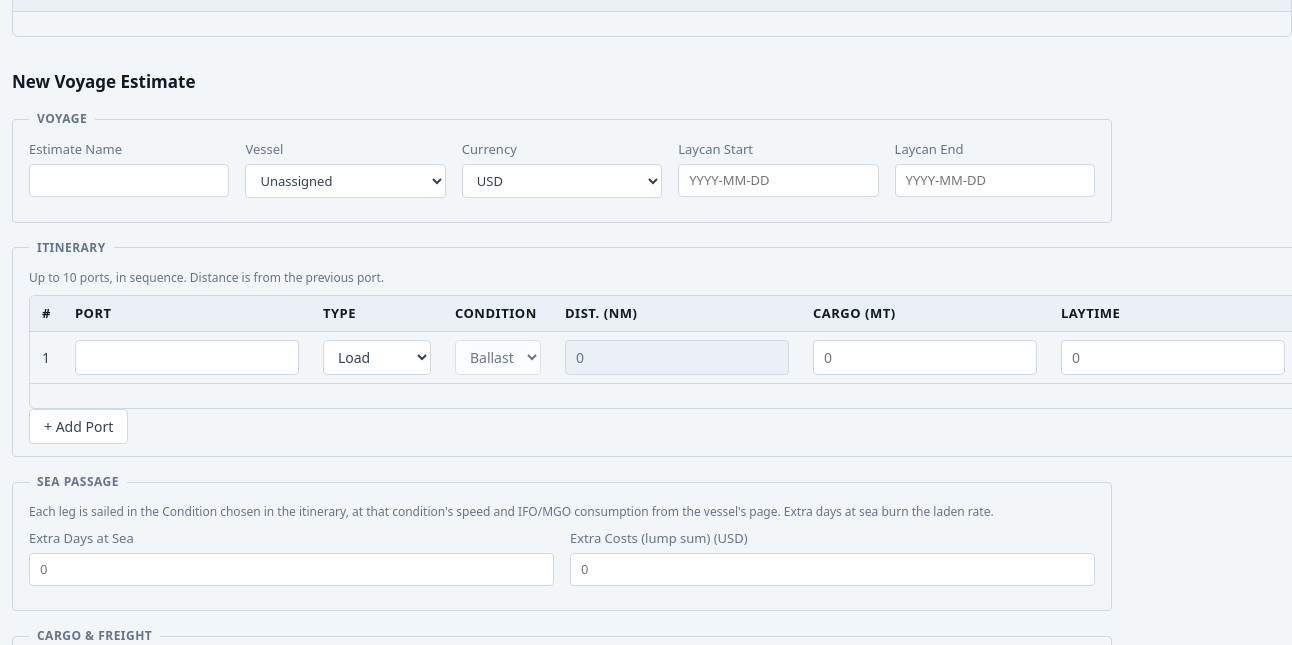
VoyageEstimatesPage › calculates without saving and shows the results panel
Type "Ust-Luga" into the field named "Port 1".
click(187, 358); type("Ust-Luga")  # box [75,340,299,375]
(page scrolled)
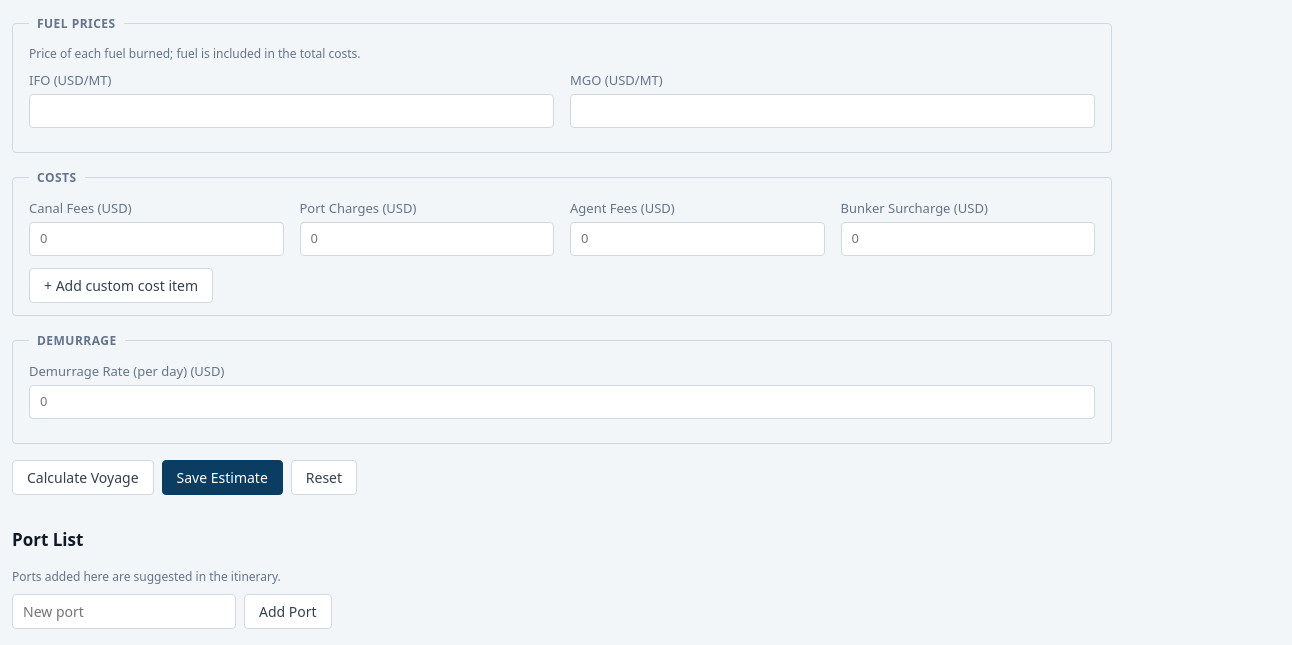
Click the button "Calculate Voyage".
click(83, 477)  # box [12,460,154,494]
(page scrolled)
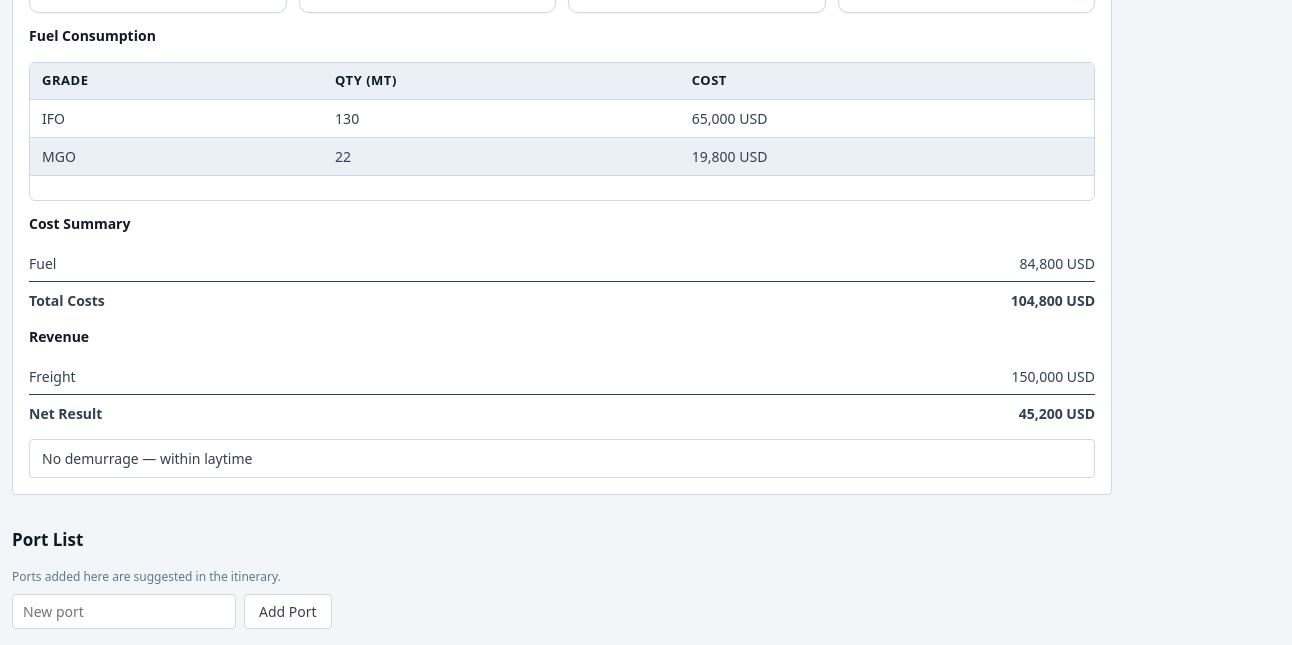
Expected: the text "MGO" is shown, [30,137,323,175]
Expected: the text "IFO" is shown, [30,99,323,137]
Expected: the text "Fuel" is shown, [29,252,56,274]
